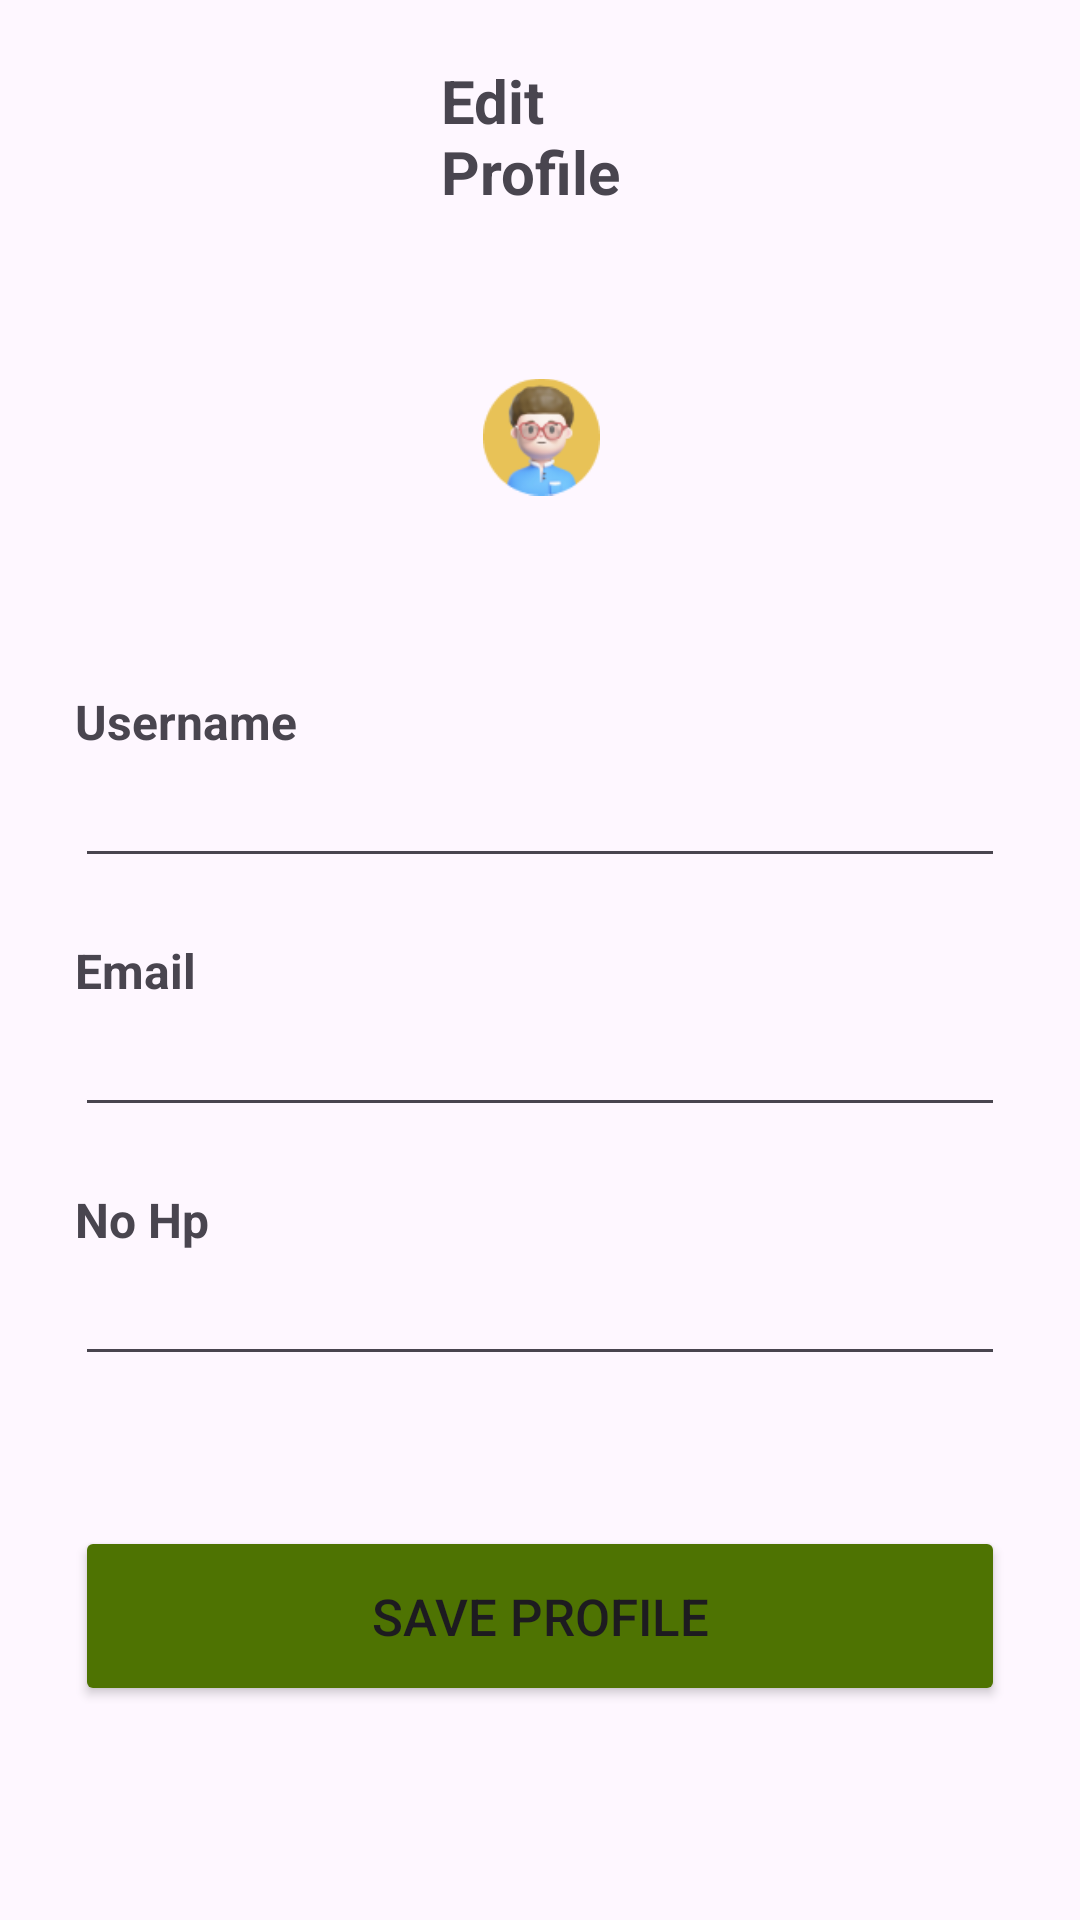

Point at icon controls on the screen. Image size 1080w x 1920h, points as point (x, y).
avtar: point (541, 437)
